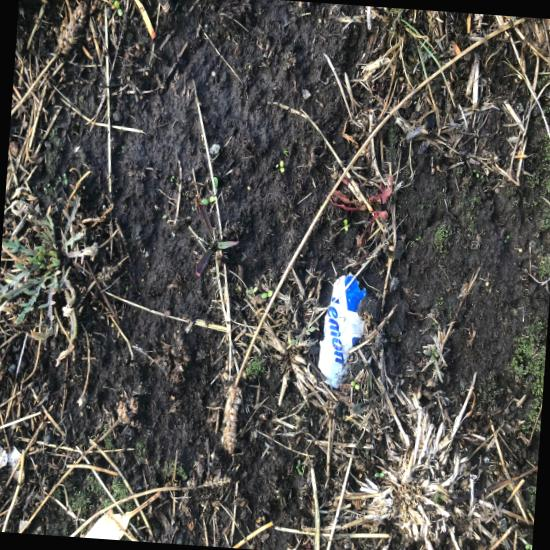Disposable plastic cup: (14, 50, 49, 100)
Drink can: (183, 116, 233, 168)
Normal paper: (11, 74, 84, 112), (7, 111, 52, 169)
Paper bag: (170, 164, 234, 247)
Pop tab: (228, 150, 233, 159)
